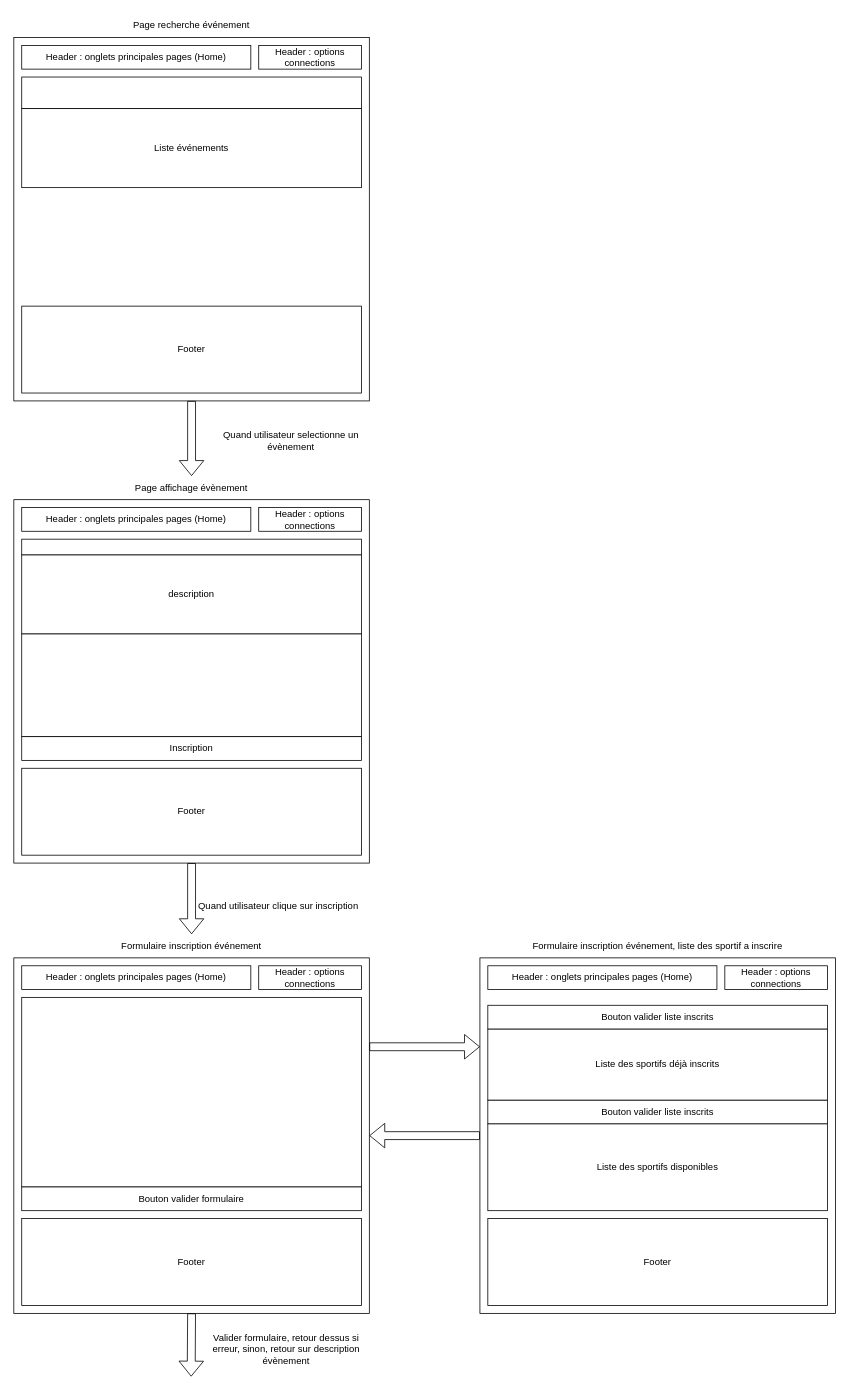
Image size: 849x1390. Some labels were removed from this diagram. The centre of each missing label's shape, as x and y in pixels:
Critères de recherches: the point at 191,92
Formulaire inscription : - liste des sportifs du club à inscrire: the point at 191,1092
infos pratiques : - dates - lieu: the point at 191,685
type événement : titre événement: the point at 191,546
